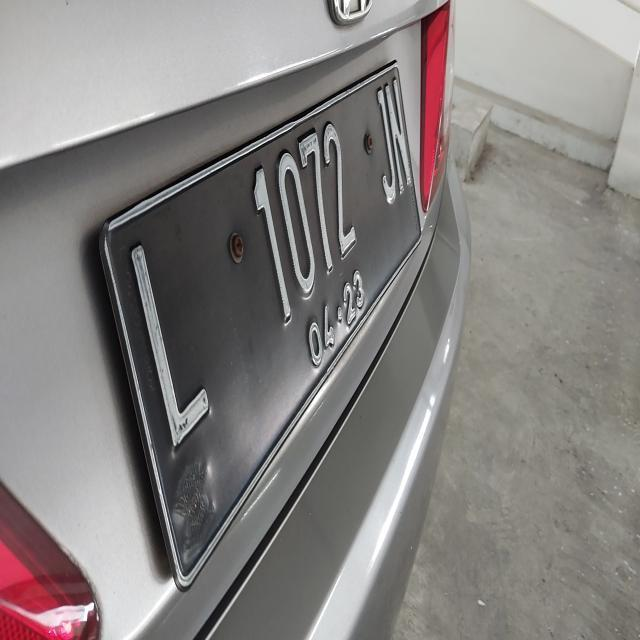0: (268, 142, 324, 306)
1: (242, 152, 296, 340)
2: (313, 107, 371, 260)
7: (290, 125, 340, 284)
J: (362, 84, 402, 214)
L: (111, 234, 225, 453)
N: (384, 74, 427, 202)
